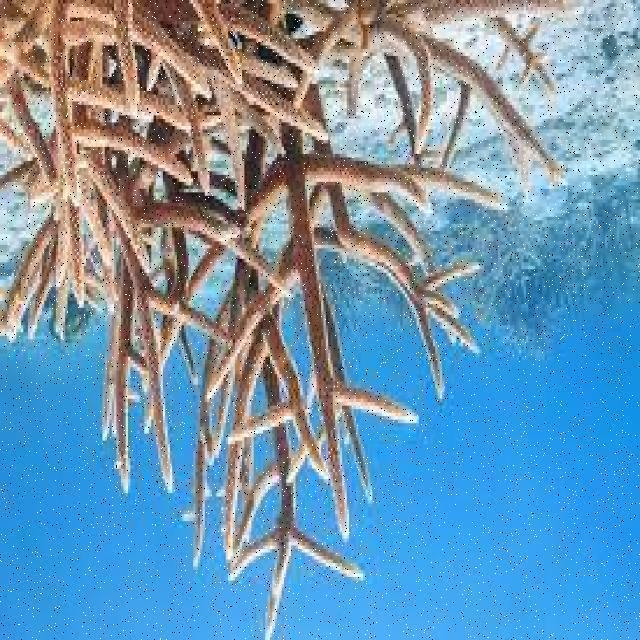Healthy: (1, 1, 570, 640)
